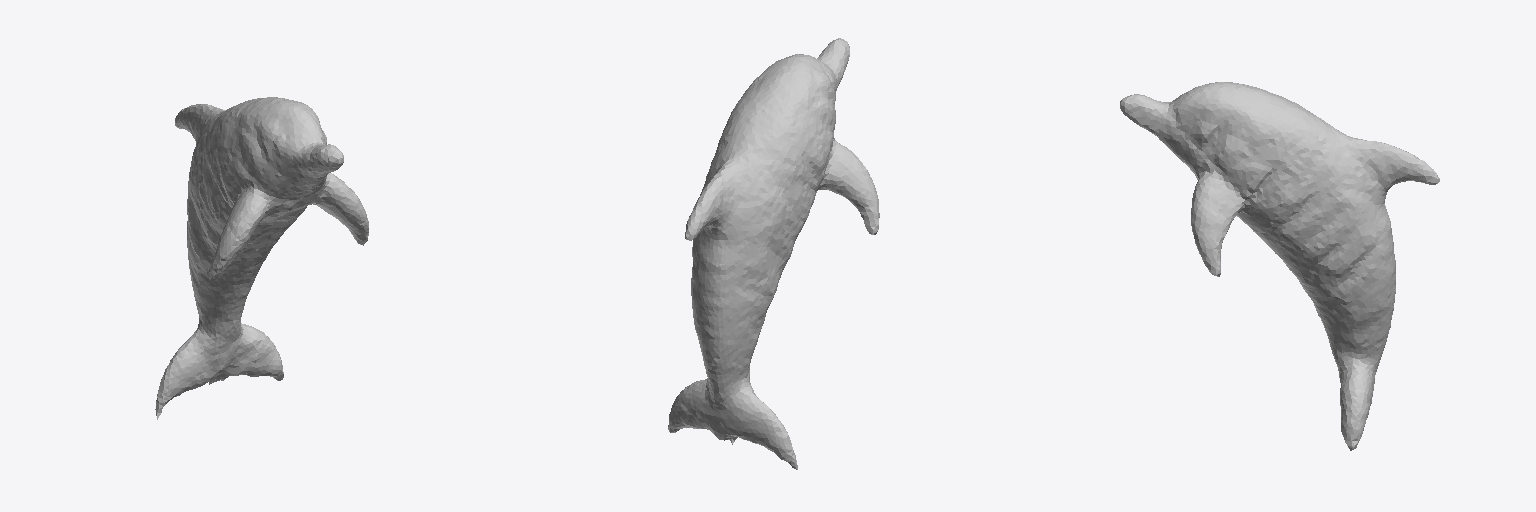
Rendered from golfinho.obj.
3 views of the same model, side by side, from view 1: azimuth 30°, elevation 25°; view 2: azimuth 150°, elevation 25°; view 3: azimuth 270°, elevation 25° (orthographic).
Parts seen in each view (by area): view 1: Mesh1; view 2: Mesh1; view 3: Mesh1.
Boxes of the visible parts, x1=… form: Mesh1: x1=155, y1=97, x2=368, y2=419; Mesh1: x1=668, y1=38, x2=879, y2=469; Mesh1: x1=1120, y1=82, x2=1439, y2=450.
Size of the model in its own units: 1.54 by 3.26 by 2.74.